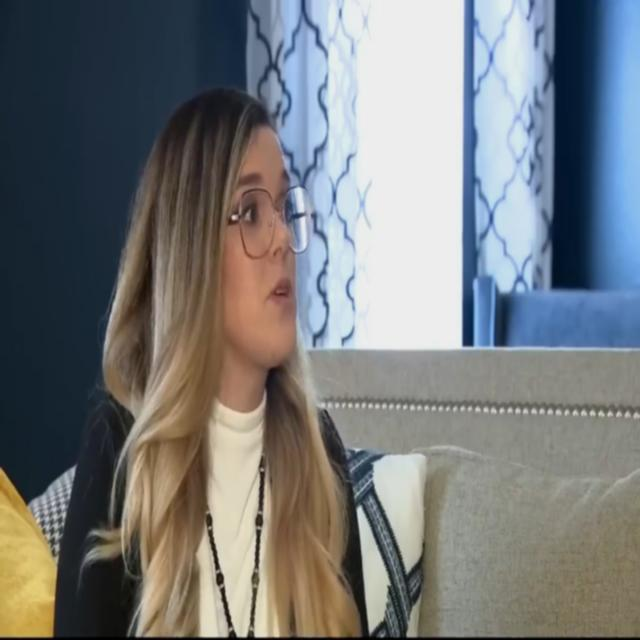non-fight: (132, 42, 382, 640)
